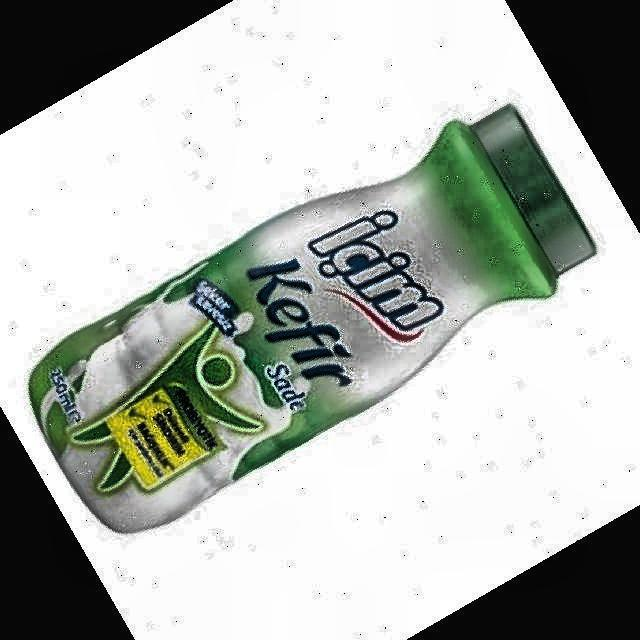plastic: (30, 105, 595, 532)
